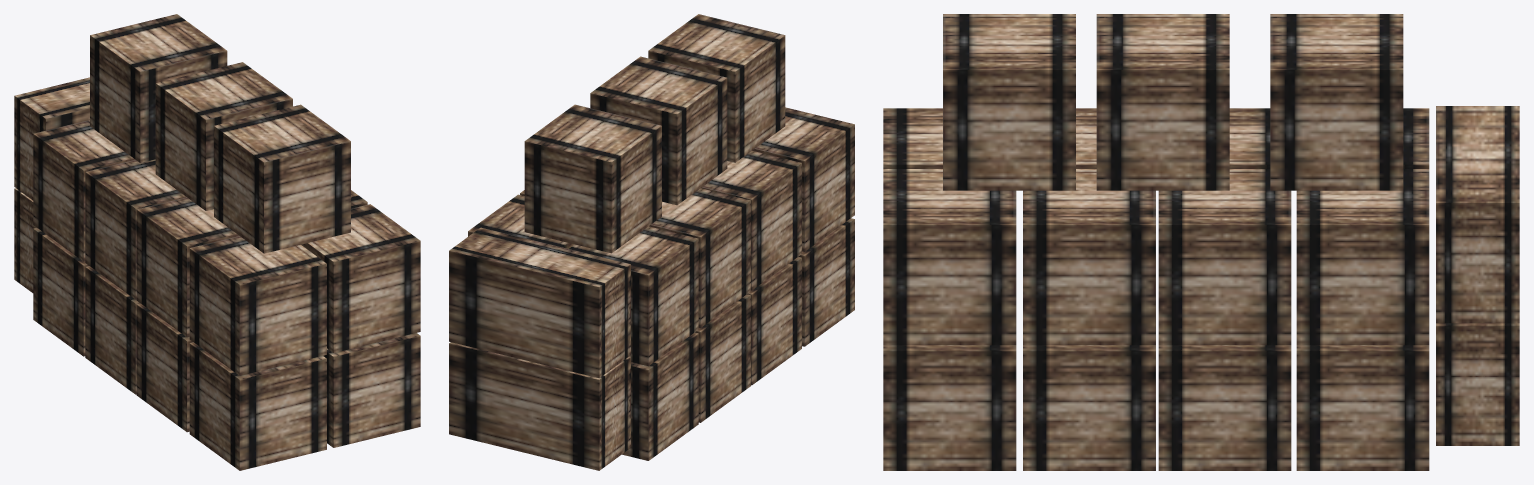
File: cargo.dae
3 views of the same model, side by side, from view 1: azimuth 30°, elevation 25°; view 2: azimuth 150°, elevation 25°; view 3: azimuth 270°, elevation 25° (orthographic). The views are drawn at different scales.
Visible parts, largest first — view 1: cargo.002; view 2: cargo.002; view 3: cargo.002.
Part boxes in pixels (x1,y1,x2,y2): cargo.002: [14, 14, 420, 470]; cargo.002: [449, 14, 854, 470]; cargo.002: [883, 14, 1519, 470].
Bounding box in the file's own units: 2.24 × 5.17 × 3.33.
